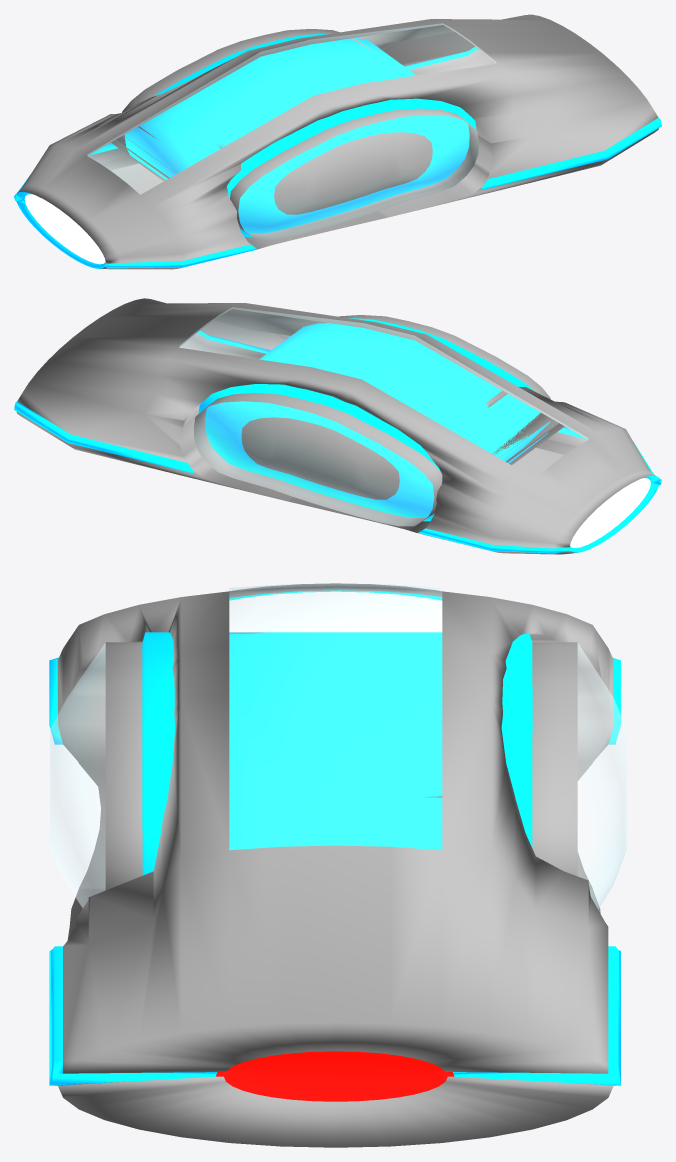
File: car1.glb
3 renders of one model, top to bottom at view 1: azimuth 30°, elevation 25°; view 2: azimuth 150°, elevation 25°; view 3: azimuth 270°, elevation 25°, orthographic. The views are drawn at different scales.
Parts seen in each view (by area): view 1: Flying Car 1; view 2: Flying Car 1; view 3: Flying Car 1.
Part boxes in pixels (bbox=[...]): Flying Car 1: bbox=[14, 14, 661, 269]; Flying Car 1: bbox=[14, 298, 661, 554]; Flying Car 1: bbox=[49, 583, 626, 1147].
Bounding box in the file's own units: 18.97 × 4.36 × 8.95.
